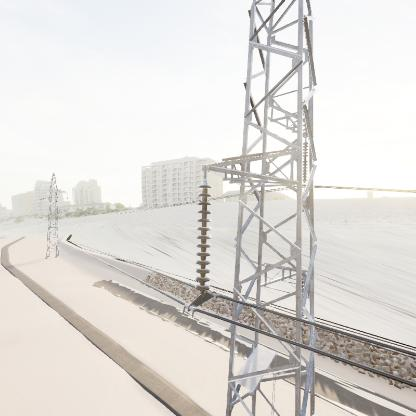insulator: (195, 180, 214, 298)
tower: (32, 171, 71, 261)
